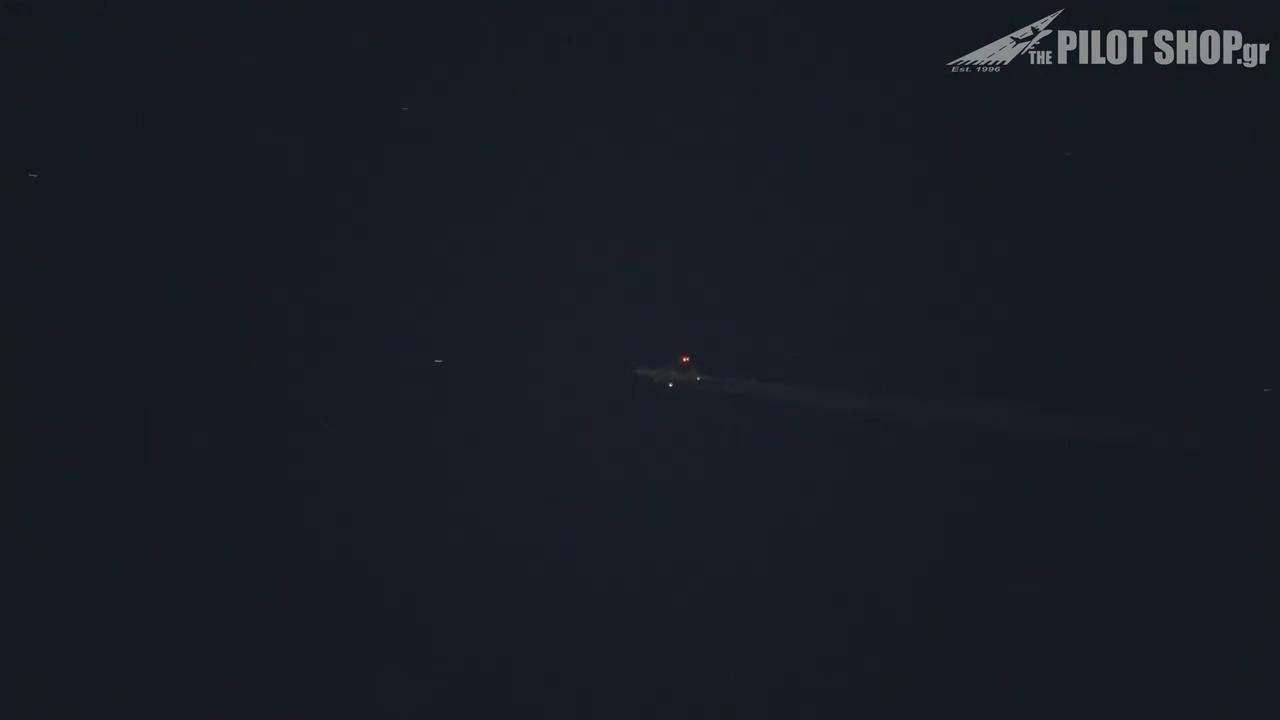Plane: (623, 329, 757, 415)
